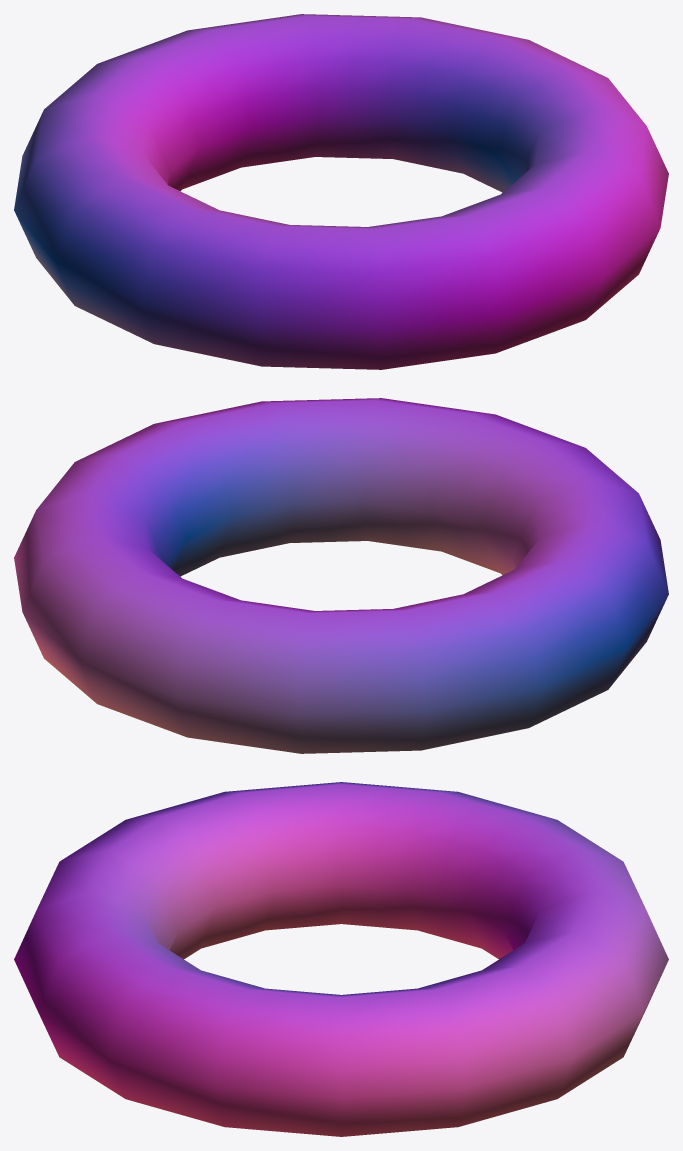
File: SuperToroid.fbx
The picture shows the model from 3 angles, top to bottom: view 1: azimuth 30°, elevation 25°; view 2: azimuth 150°, elevation 25°; view 3: azimuth 270°, elevation 25°; orthographic projection.
Visible parts, largest first — view 1: SuperToroid; view 2: SuperToroid; view 3: SuperToroid.
Boxes of the visible parts, x1,y1,x2,y2 form: SuperToroid: (14,14,668,369); SuperToroid: (14,398,668,753); SuperToroid: (14,782,668,1136).
Bounding box in the file's own units: 260 × 60 × 260.
